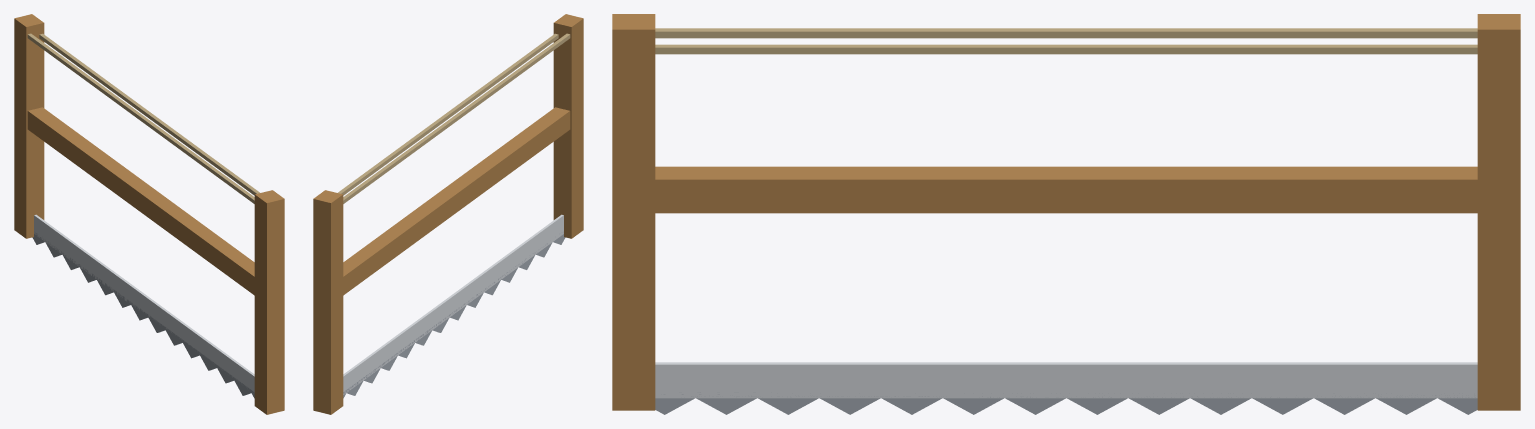
Rendered from tool_bucksaw.glb.
3 views of the same model, side by side, from view 1: azimuth 30°, elevation 25°; view 2: azimuth 150°, elevation 25°; view 3: azimuth 270°, elevation 25° (orthographic). The views are drawn at different scales.
Parts seen in each view (by area): view 1: _MeshInstance3D_977, _MeshInstance3D_975, _MeshInstance3D_976, _MeshInstance3D_980, _MeshInstance3D_981, _MeshInstance3D_979, _MeshInstance3D_978; view 2: _MeshInstance3D_977, _MeshInstance3D_976, _MeshInstance3D_975, _MeshInstance3D_980, _MeshInstance3D_979, _MeshInstance3D_978, _MeshInstance3D_981; view 3: _MeshInstance3D_977, _MeshInstance3D_980, _MeshInstance3D_975, _MeshInstance3D_976, _MeshInstance3D_978, _MeshInstance3D_979, _MeshInstance3D_981.
Part boxes in pixels (bbox=[...]): _MeshInstance3D_977: bbox=[27, 107, 254, 295]; _MeshInstance3D_975: bbox=[254, 190, 284, 414]; _MeshInstance3D_976: bbox=[14, 14, 44, 238]; _MeshInstance3D_980: bbox=[34, 214, 254, 393]; _MeshInstance3D_981: bbox=[32, 232, 254, 398]; _MeshInstance3D_979: bbox=[27, 33, 254, 203]; _MeshInstance3D_978: bbox=[39, 33, 259, 195]; _MeshInstance3D_977: bbox=[343, 107, 570, 295]; _MeshInstance3D_976: bbox=[313, 190, 343, 414]; _MeshInstance3D_975: bbox=[553, 14, 583, 238]; _MeshInstance3D_980: bbox=[343, 214, 563, 394]; _MeshInstance3D_979: bbox=[343, 33, 570, 203]; _MeshInstance3D_978: bbox=[338, 33, 558, 195]; _MeshInstance3D_981: bbox=[343, 232, 565, 398]; _MeshInstance3D_977: bbox=[655, 166, 1477, 213]; _MeshInstance3D_980: bbox=[655, 362, 1477, 398]; _MeshInstance3D_975: bbox=[612, 14, 655, 410]; _MeshInstance3D_976: bbox=[1477, 14, 1520, 410]; _MeshInstance3D_978: bbox=[655, 44, 1477, 54]; _MeshInstance3D_979: bbox=[655, 28, 1477, 38]; _MeshInstance3D_981: bbox=[655, 392, 1477, 414].
Bounding box in the file's own units: 0.03 × 0.35 × 0.735.
